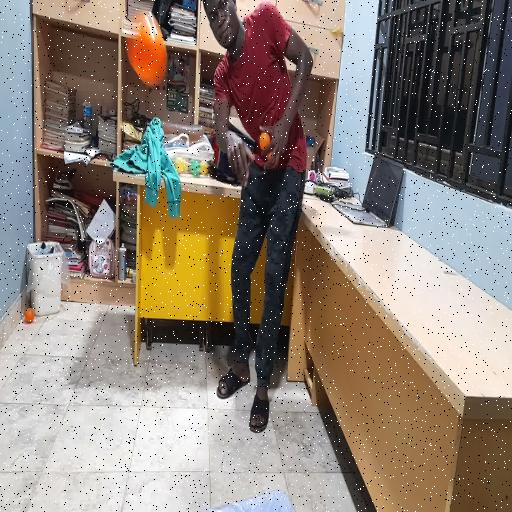plastic-ball: (124, 8, 168, 88)
